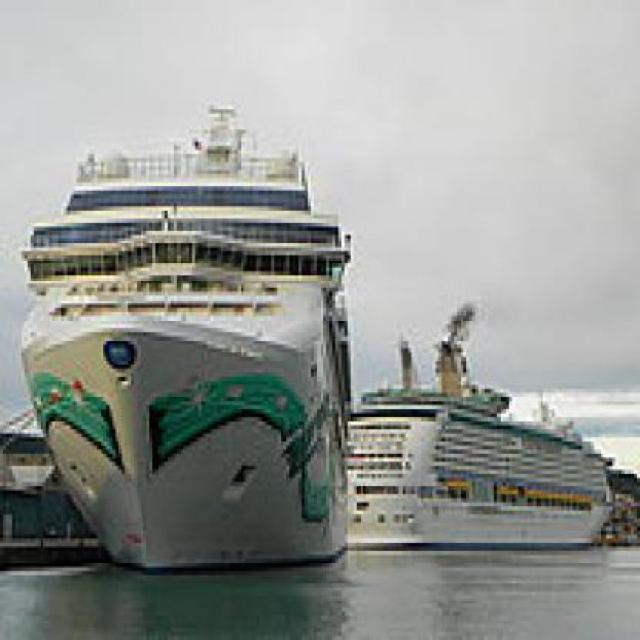cruise: (10, 91, 370, 577), (340, 321, 629, 564)
